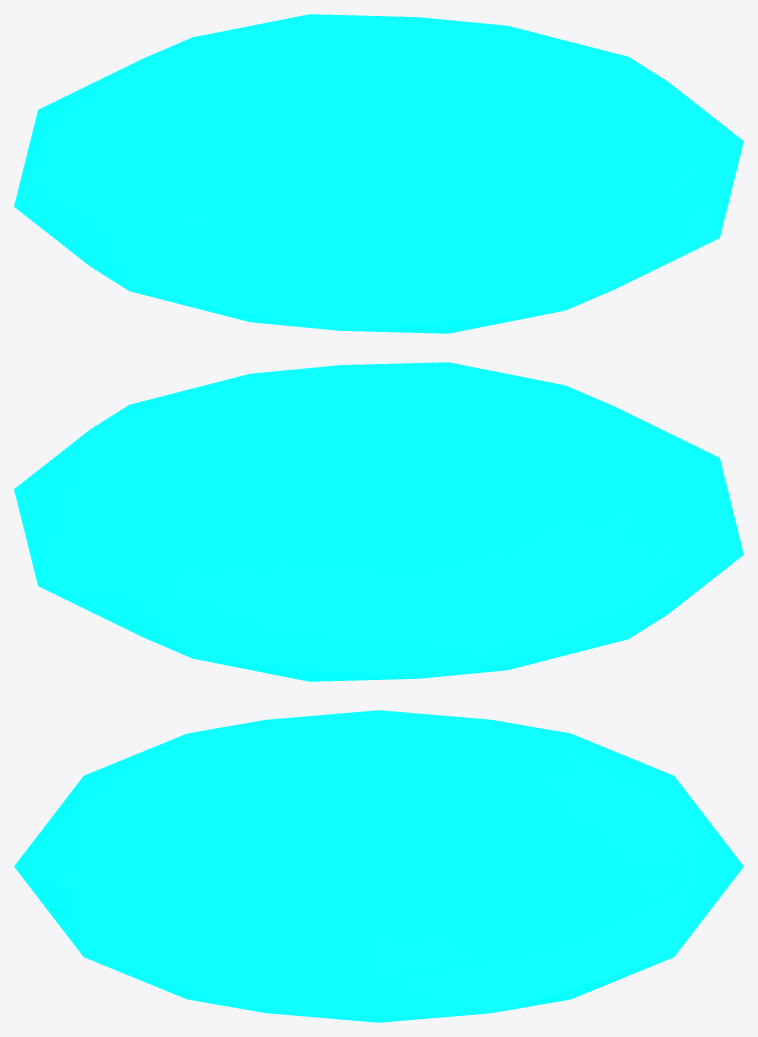
Rendered from plasmaDisc1.glb.
3 renders of one model, top to bottom at view 1: azimuth 30°, elevation 25°; view 2: azimuth 150°, elevation 25°; view 3: azimuth 270°, elevation 25°, orthographic. The views are drawn at different scales.
Visible parts, largest first — view 1: Icosphere; view 2: Icosphere; view 3: Icosphere.
Part boxes in pixels (left/top/right/bottom): Icosphere: left=14, top=14, right=743, bottom=333; Icosphere: left=14, top=362, right=743, bottom=681; Icosphere: left=14, top=710, right=743, bottom=1022.
Bounding box in the file's own units: 1.9 × 0.2885 × 2.
Materials: 1 (1 with a texture image).
